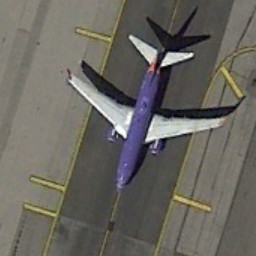Airplane: (60, 27, 234, 198)
